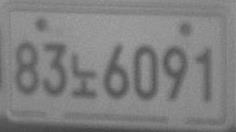0: (133, 44, 159, 100)
1: (193, 47, 219, 103)
3: (42, 42, 67, 95)
6: (102, 42, 130, 100)
8: (14, 40, 40, 96)
9: (161, 45, 189, 100)
노: (70, 53, 97, 98)
